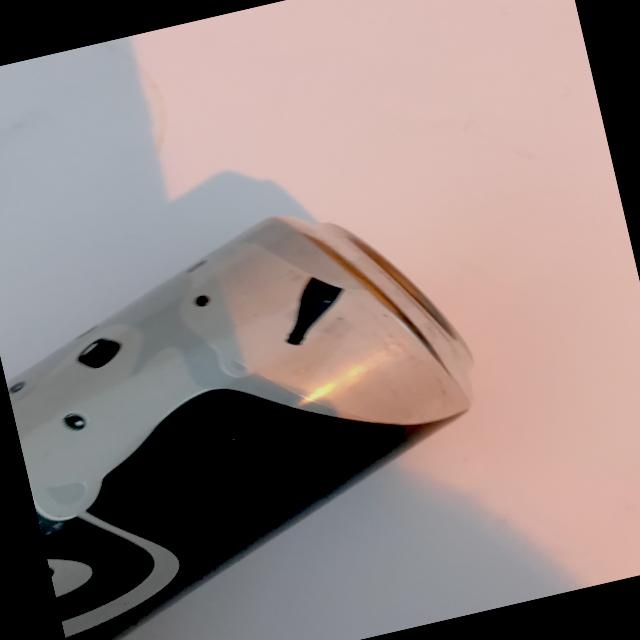Metal: (0, 160, 536, 640)
